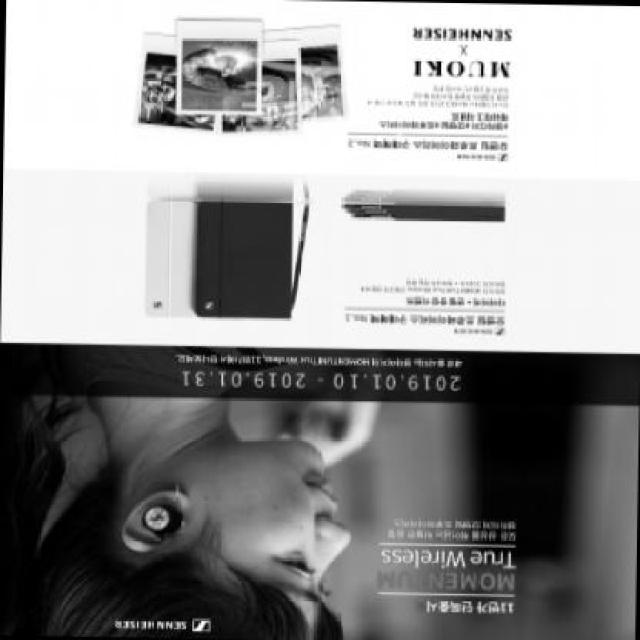earphone: (125, 497, 193, 548)
